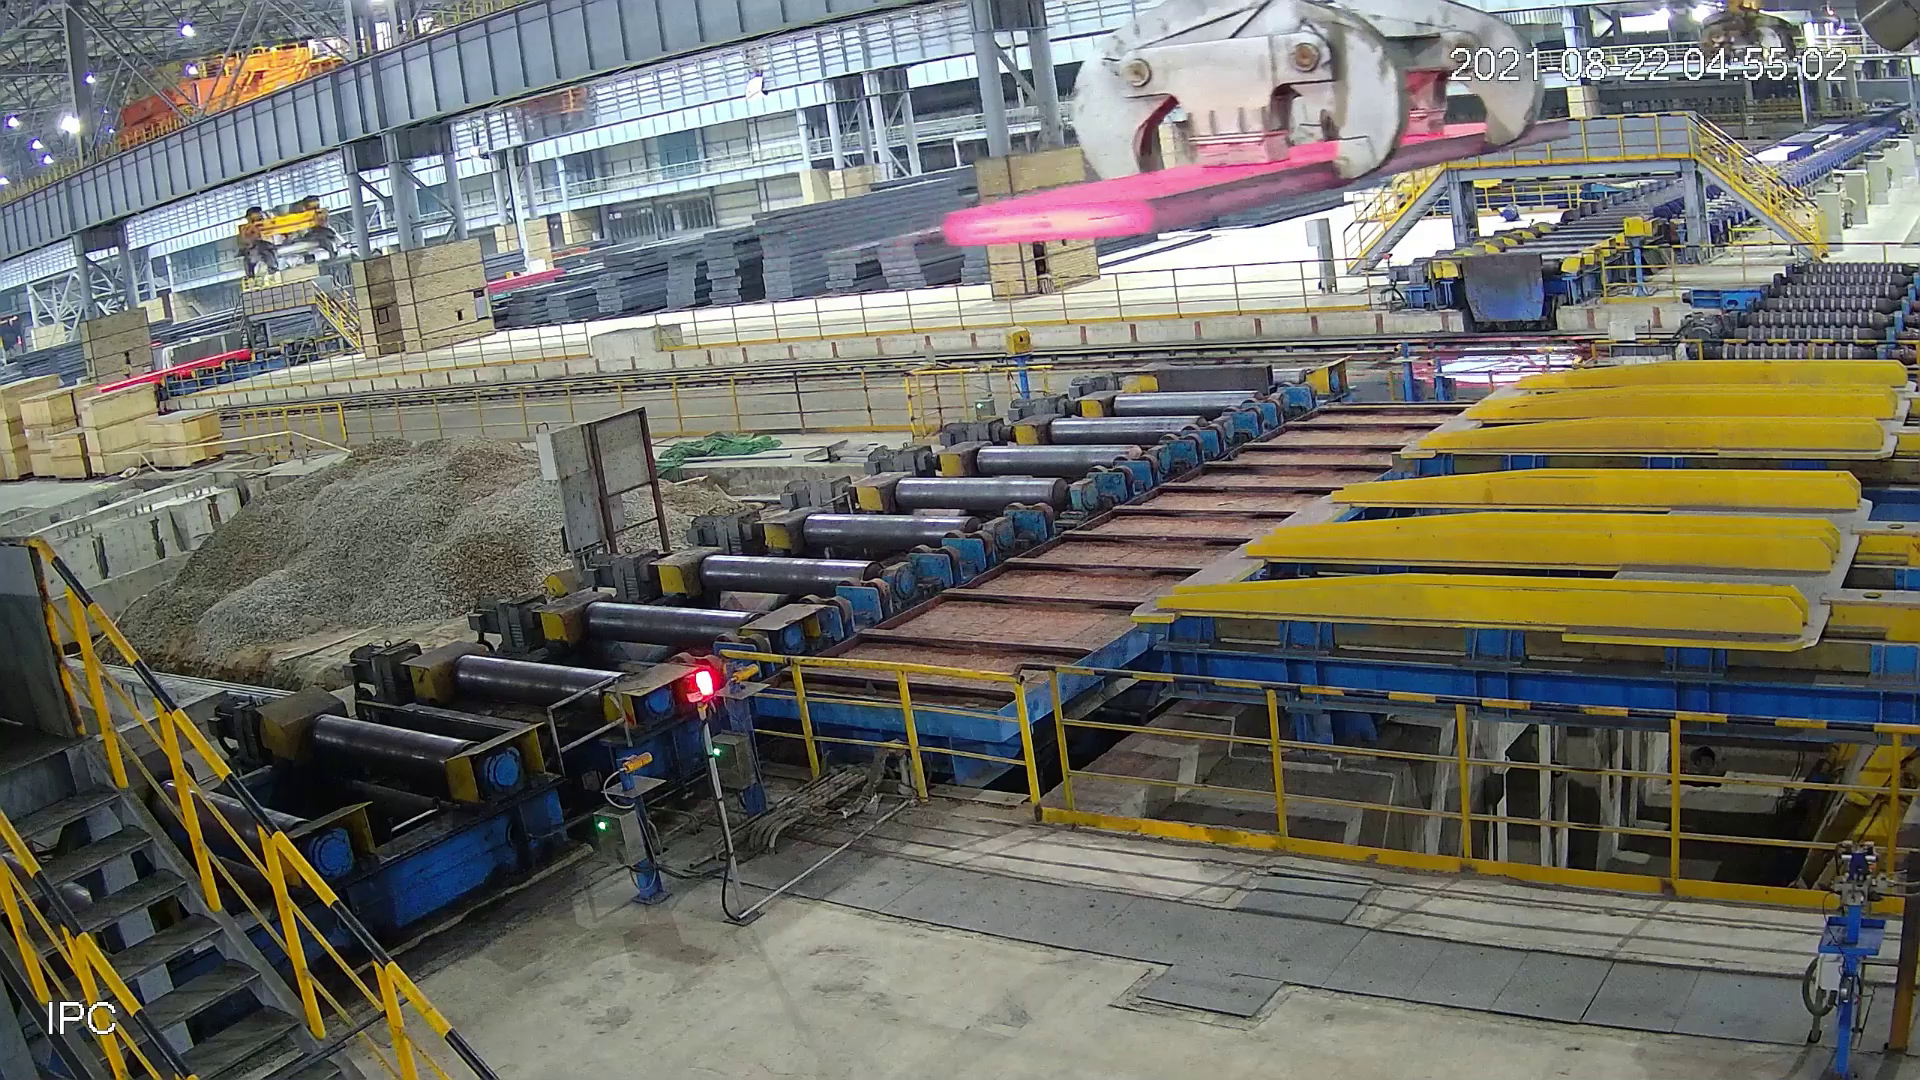crane: (1687, 1, 1809, 63)
craneandslab: (924, 1, 1578, 255)
